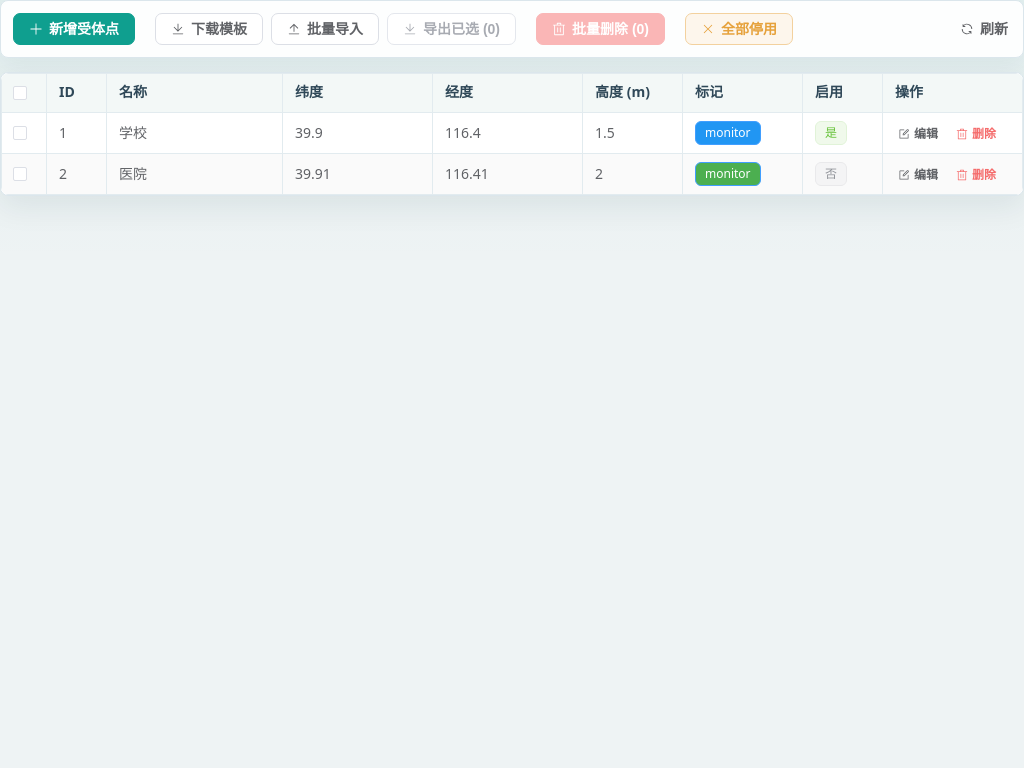
it: ReceptorsView › 点击新增按钮会打开弹窗
Click the button "新增受体点".
click(74, 29)  # box [13,13,135,45]
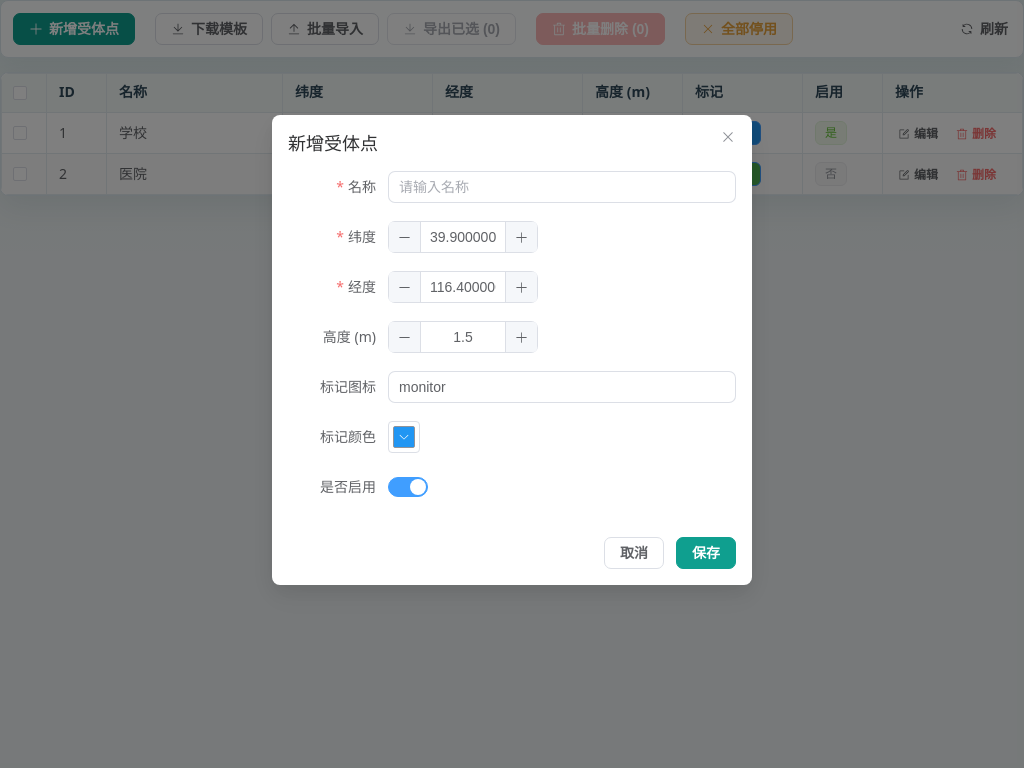
Check: the element showing "新增受体点 名称 纬度 经度 高度 (m) 标记图标 标记颜色 是否启用 取消 保存" is shown, box [272,115,752,585]
